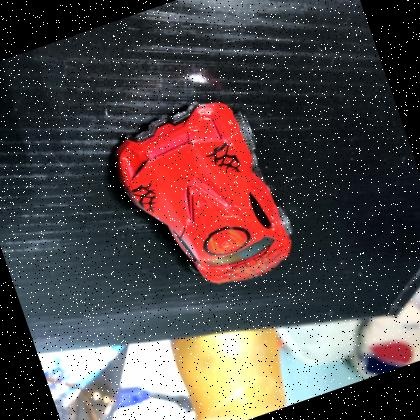Car: (93, 73, 315, 318)
